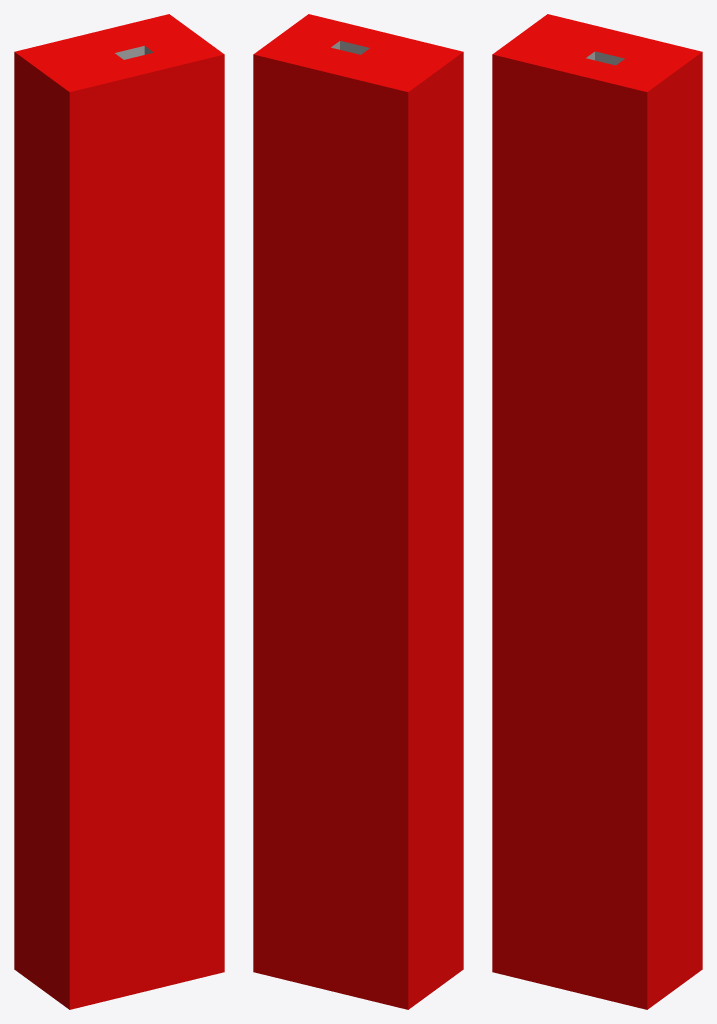
The picture shows the model from 3 angles, left to right: view 1: azimuth 30°, elevation 25°; view 2: azimuth 150°, elevation 25°; view 3: azimuth 330°, elevation 25°; orthographic projection.
Parts seen in each view (by area): view 1: root; view 2: root; view 3: root.
Part boxes in pixels (bbox=[...]): root: bbox=[14, 14, 224, 1009]; root: bbox=[253, 14, 463, 1009]; root: bbox=[492, 14, 702, 1009].
Bounding box in the file's own units: 47.72 × 270 × 29.49.
